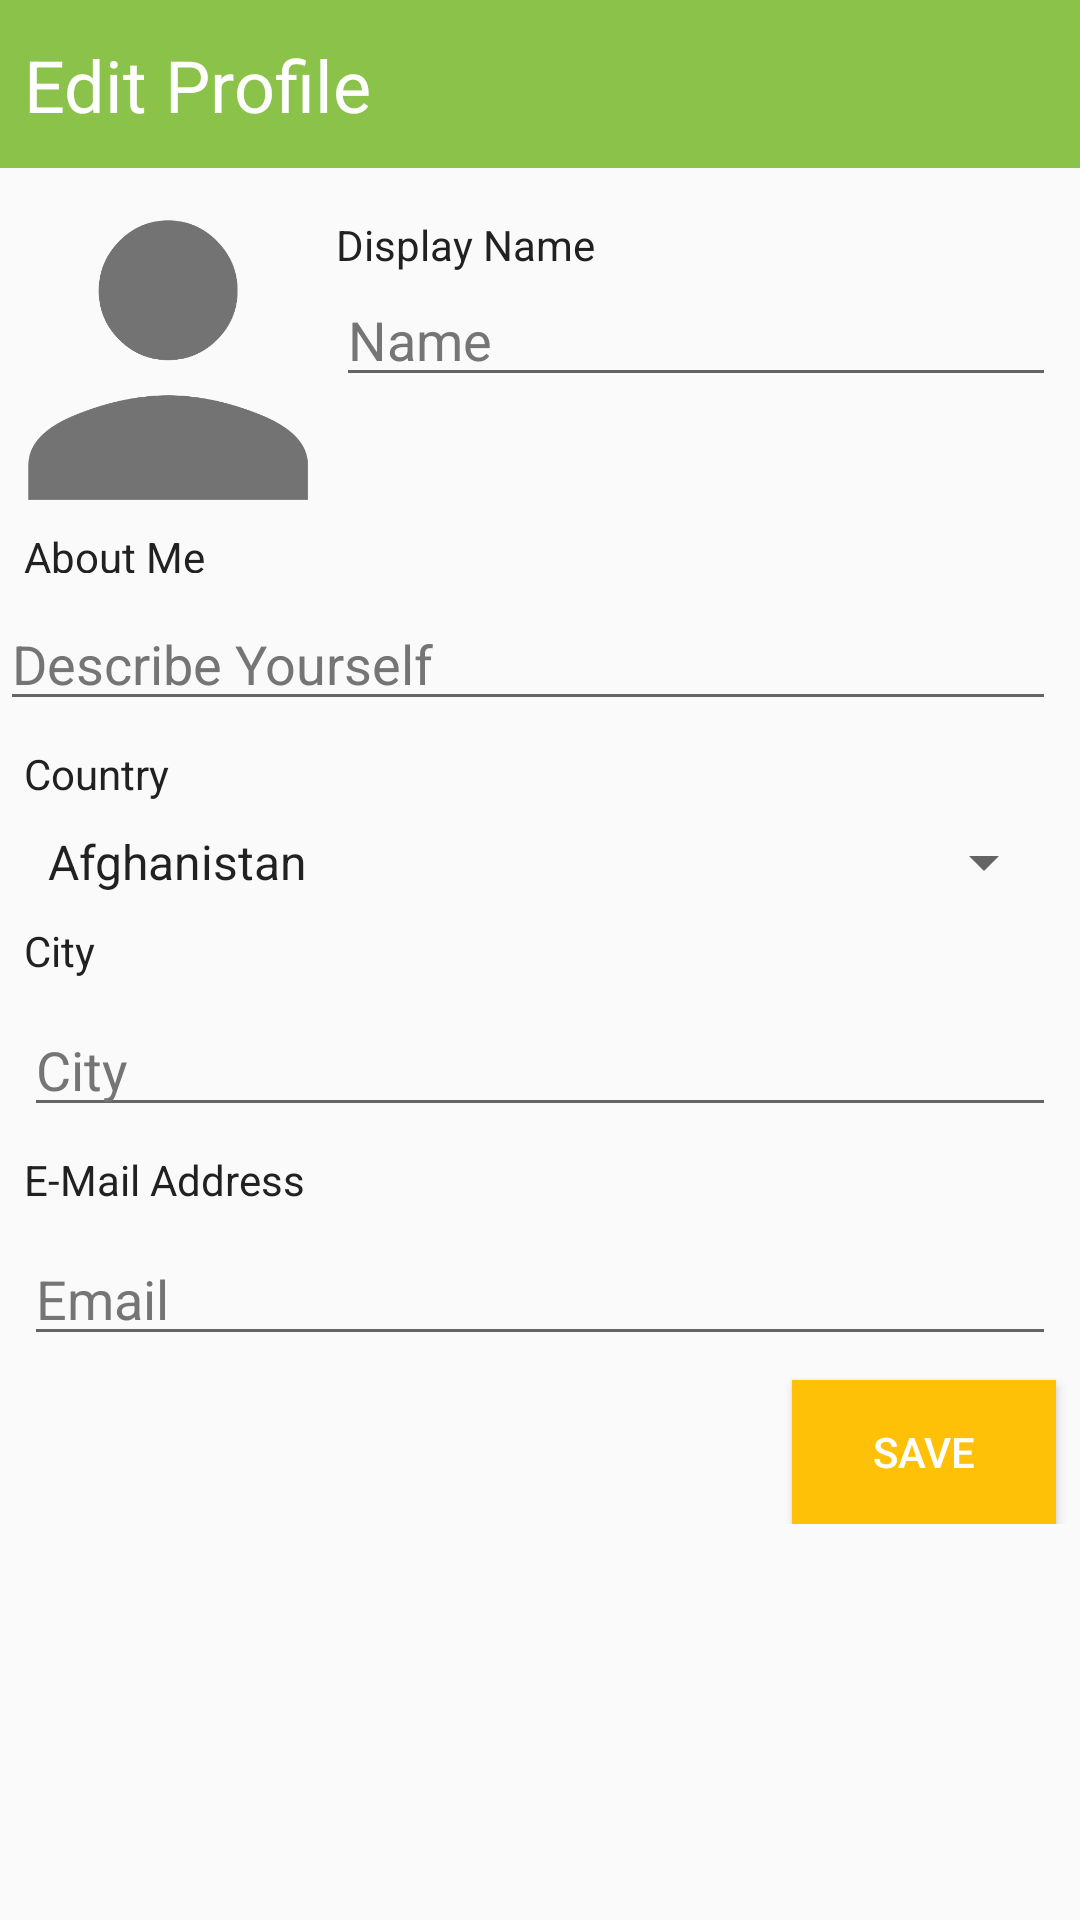

Locate icon controls on the screen. Image size 1080 × 1920, boxes as (x1, y1, x2, y2).
person: (28, 220, 308, 500)
